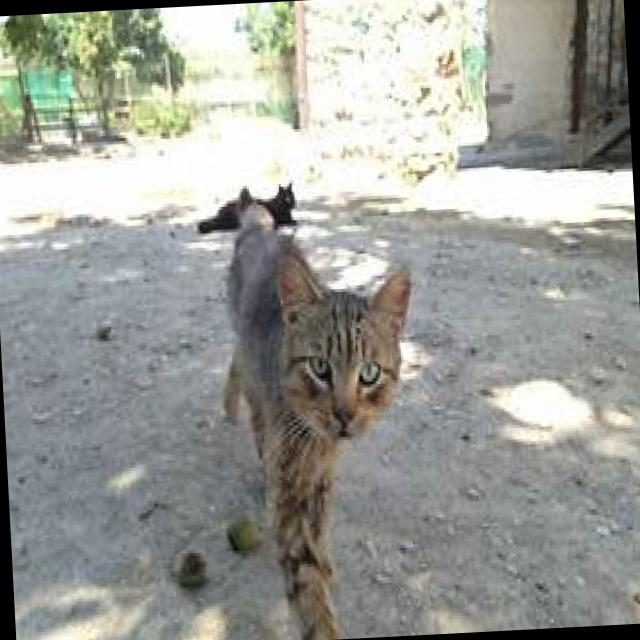animal: (206, 211, 435, 640), (185, 172, 305, 246)
